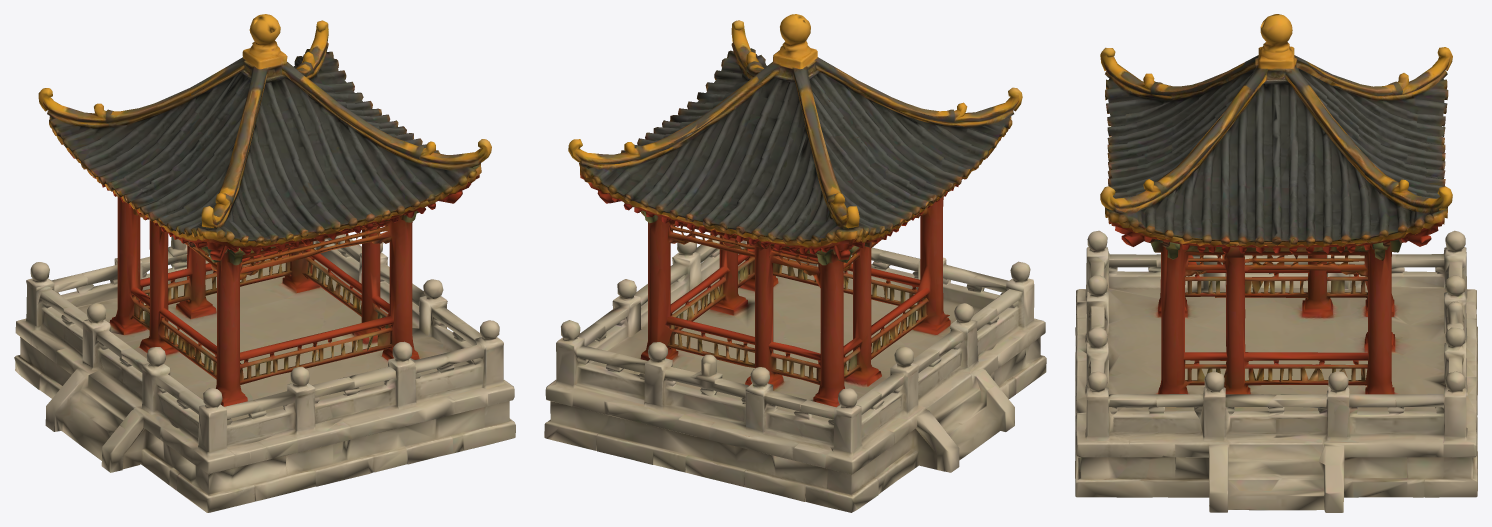
The model's file is quyuan.glb.
The picture shows the model from 3 angles, left to right: view 1: azimuth 30°, elevation 25°; view 2: azimuth 150°, elevation 25°; view 3: azimuth 270°, elevation 25°; orthographic projection. The views are drawn at different scales.
Visible parts, largest first — view 1: tripo_node_88d639b0-f5f0-4cbe-8e63-b29dc4d23bd1; view 2: tripo_node_88d639b0-f5f0-4cbe-8e63-b29dc4d23bd1; view 3: tripo_node_88d639b0-f5f0-4cbe-8e63-b29dc4d23bd1.
Part boxes in pixels (x1,y1,x2,y2): tripo_node_88d639b0-f5f0-4cbe-8e63-b29dc4d23bd1: (14, 14, 515, 512); tripo_node_88d639b0-f5f0-4cbe-8e63-b29dc4d23bd1: (544, 14, 1046, 512); tripo_node_88d639b0-f5f0-4cbe-8e63-b29dc4d23bd1: (1075, 14, 1477, 512).
Size of the model in its own units: 0.9797 by 0.9727 by 0.878.
Materials: 1 (1 with a texture image).
